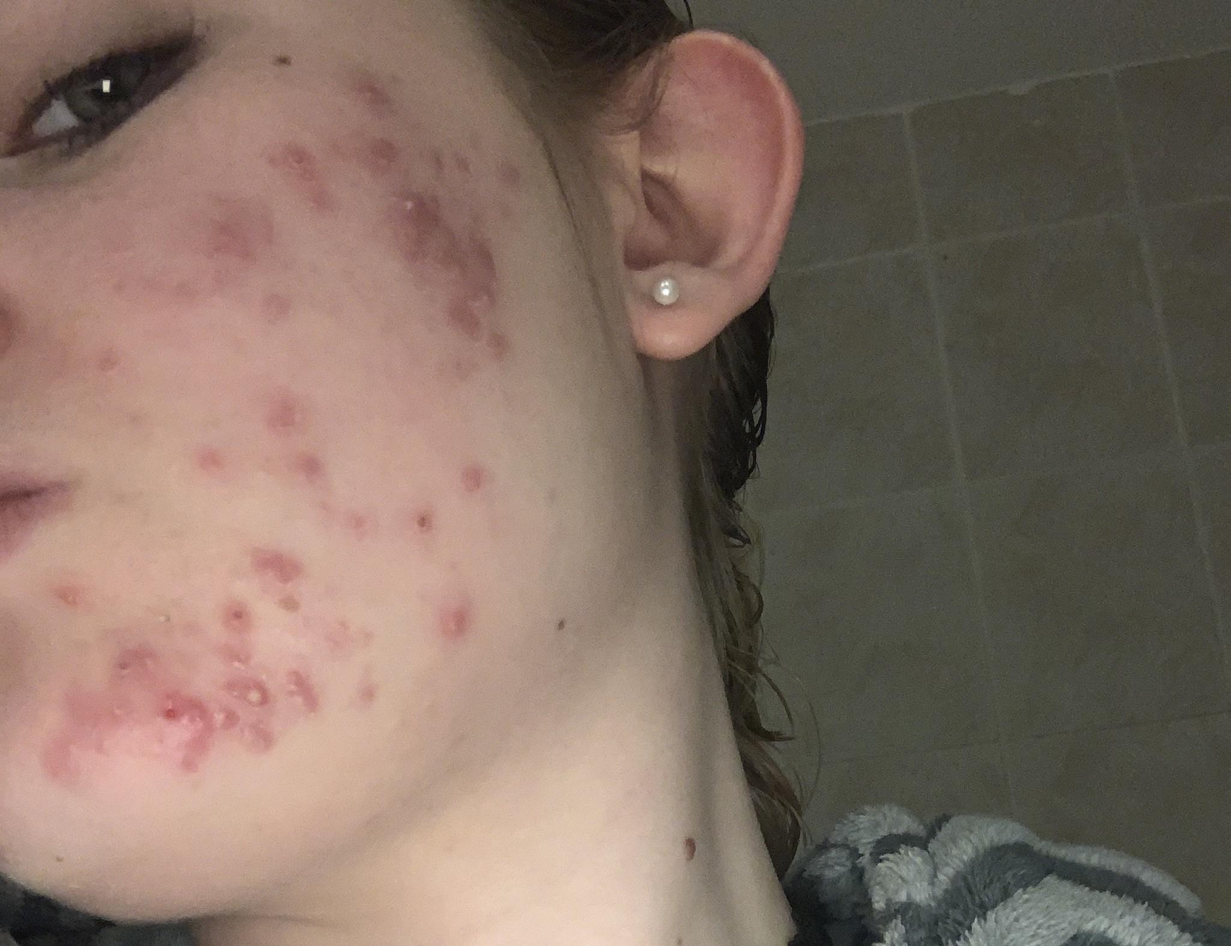Acne: (138, 676, 207, 781), (382, 469, 451, 556), (385, 165, 448, 249), (418, 574, 487, 649), (213, 667, 285, 727)
